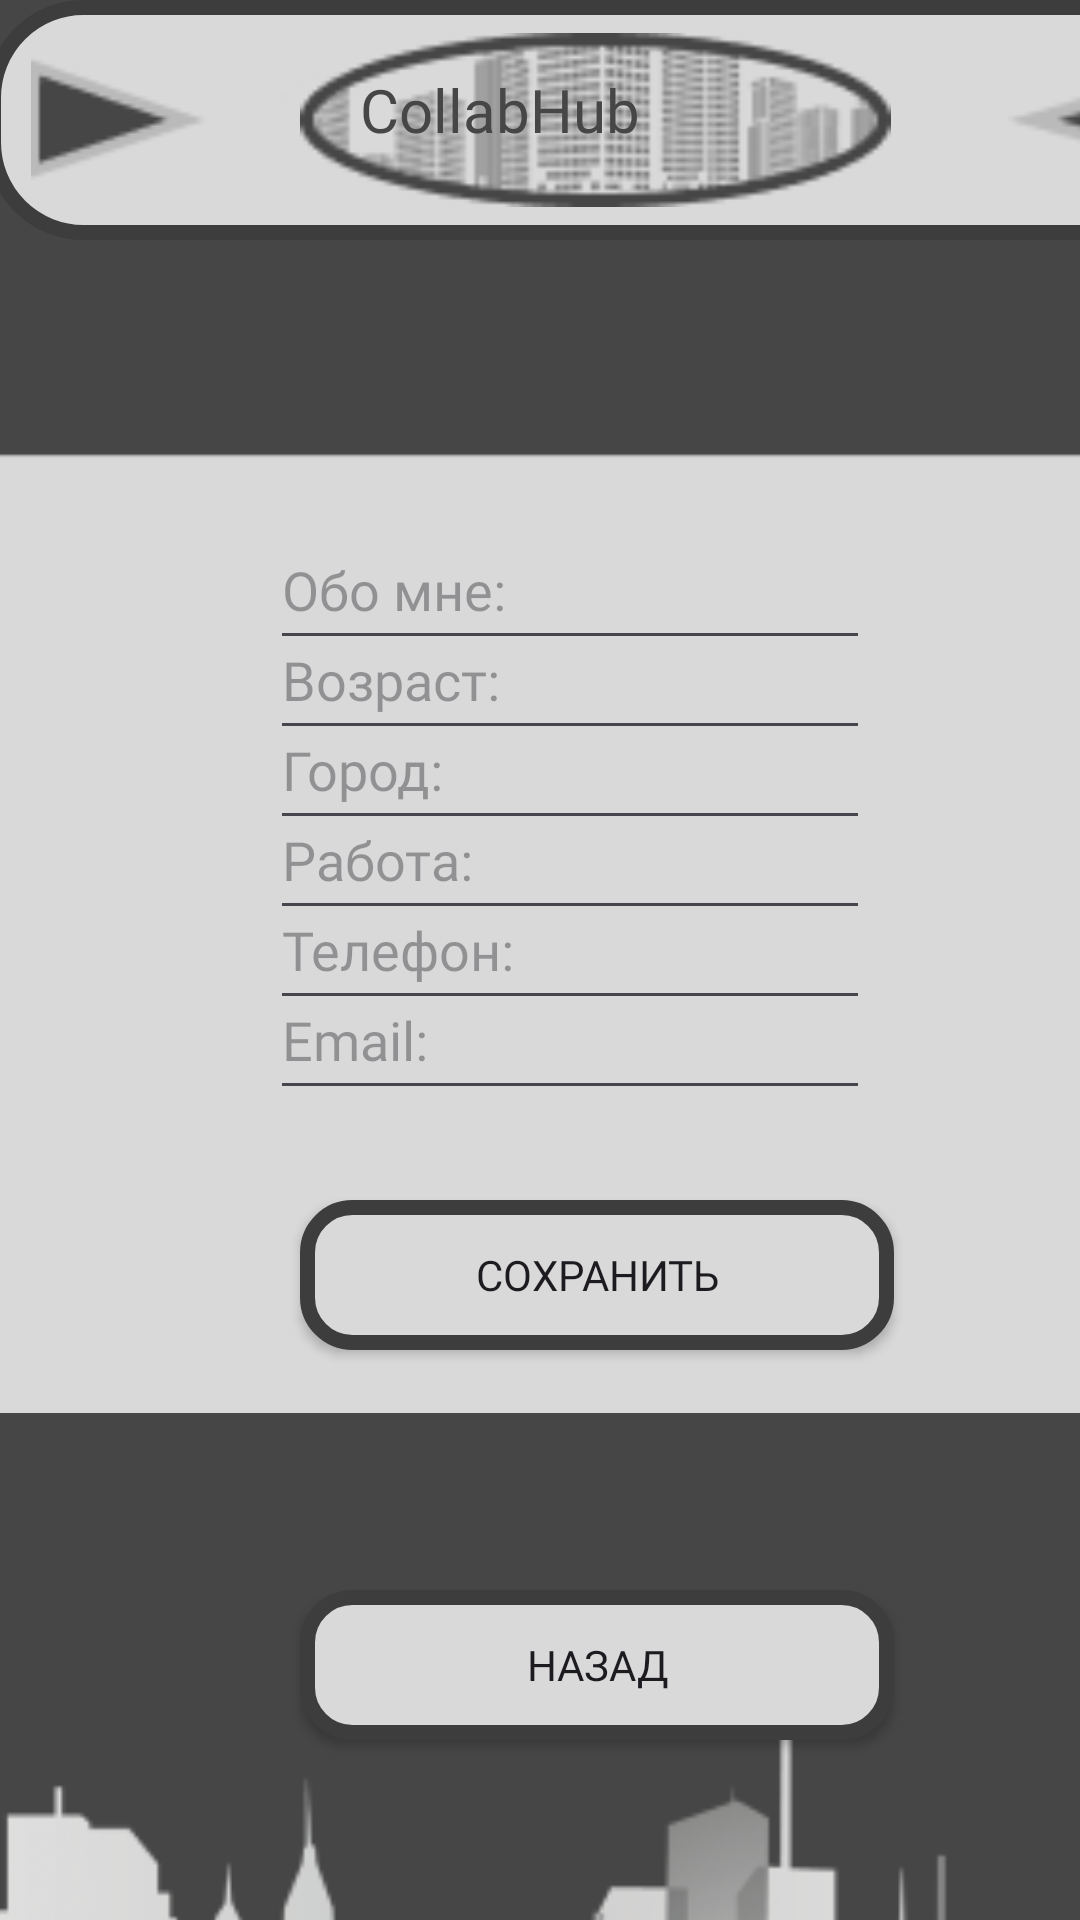

Locate icon controls on the screen. Image size 1080w x 1920h, boxes as (x1, y1, x2, y2).
polygon ek: (31, 62, 197, 175)
